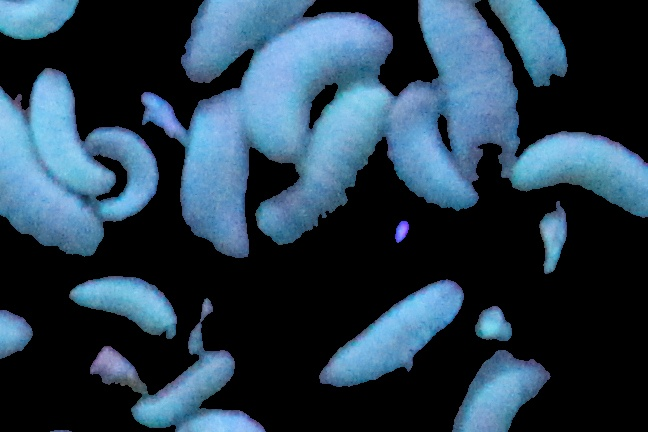larvae: (255, 78, 387, 253), (240, 19, 395, 163), (1, 72, 104, 254), (418, 1, 518, 176), (181, 1, 361, 96), (318, 284, 463, 392), (179, 88, 257, 256), (387, 86, 483, 214), (26, 64, 116, 200), (507, 133, 648, 213), (446, 357, 549, 432), (490, 1, 569, 96), (125, 353, 233, 421), (70, 277, 177, 343), (89, 125, 157, 223), (1, 1, 85, 39)
